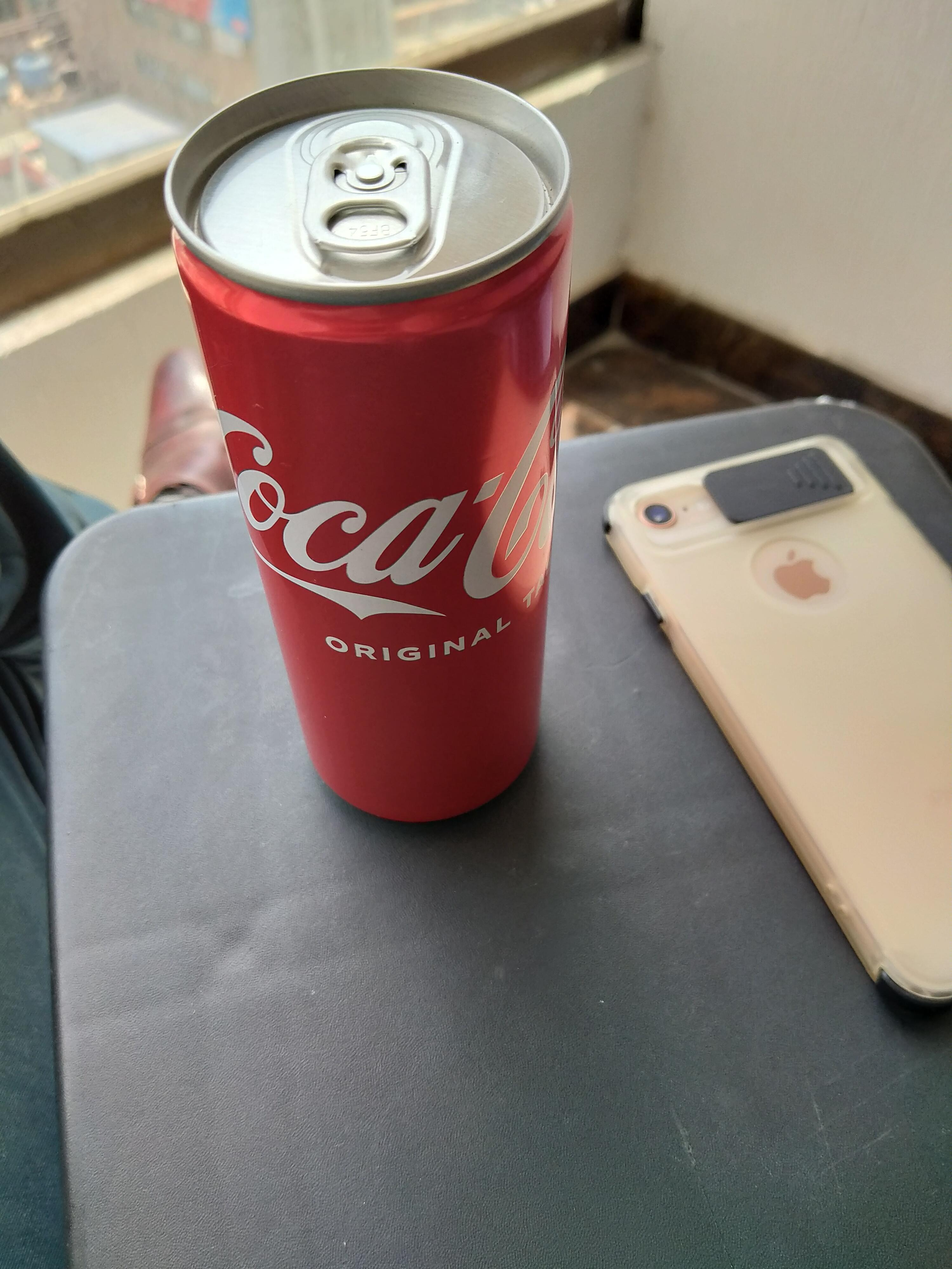tin can: (166, 63, 579, 830)
